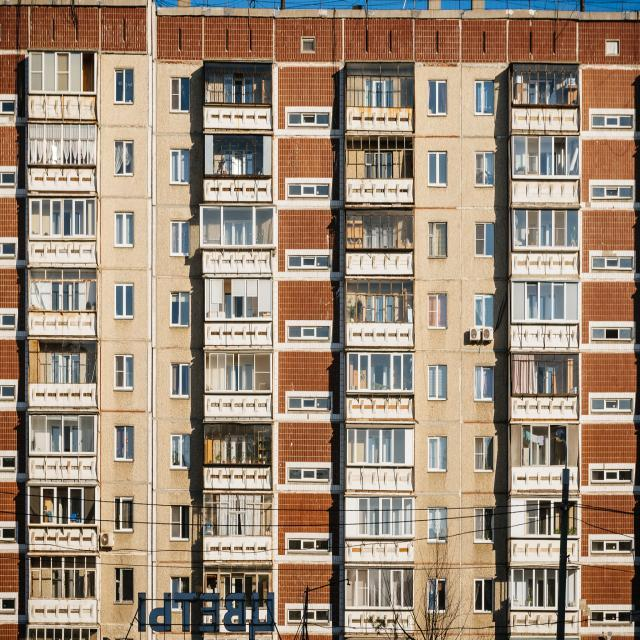Window: (29, 125, 94, 166), (348, 211, 410, 249), (346, 573, 408, 608), (208, 280, 270, 314), (32, 559, 92, 594), (516, 138, 576, 172), (515, 214, 575, 247), (516, 568, 572, 602), (31, 54, 80, 90), (520, 426, 564, 464), (42, 491, 84, 522), (208, 496, 267, 518), (348, 498, 406, 519), (212, 574, 260, 596), (528, 500, 572, 522), (50, 280, 78, 312), (50, 209, 80, 236), (426, 221, 448, 256), (224, 218, 252, 245), (222, 367, 254, 390), (53, 356, 80, 383), (365, 152, 392, 178), (366, 294, 394, 319), (51, 427, 78, 451), (286, 540, 332, 554), (286, 116, 331, 130), (287, 326, 329, 341), (476, 438, 493, 474), (594, 470, 632, 486), (427, 296, 446, 327), (226, 439, 254, 460), (114, 142, 132, 174), (115, 288, 133, 320), (289, 609, 330, 623), (172, 151, 189, 184), (429, 154, 446, 187), (476, 225, 493, 258), (530, 298, 558, 318), (288, 254, 328, 268), (368, 364, 391, 388), (366, 439, 390, 462), (116, 214, 132, 248), (476, 154, 494, 184), (172, 223, 188, 256), (430, 439, 446, 472), (366, 82, 390, 104), (428, 368, 446, 397), (288, 184, 328, 197), (591, 610, 631, 623), (171, 367, 190, 394), (115, 358, 131, 390), (172, 508, 188, 540), (476, 366, 492, 398), (474, 580, 491, 610), (534, 370, 555, 394), (288, 468, 330, 480), (476, 296, 492, 327), (114, 573, 130, 604), (115, 72, 131, 102), (116, 429, 132, 459), (476, 82, 492, 112), (429, 579, 444, 610), (531, 85, 553, 106), (592, 116, 634, 127), (226, 81, 250, 100), (288, 398, 329, 409), (172, 295, 186, 327), (172, 438, 188, 466), (430, 82, 444, 114), (172, 80, 186, 109), (224, 154, 249, 170), (594, 257, 634, 267), (592, 544, 632, 554), (116, 498, 132, 522), (30, 630, 93, 636), (590, 330, 634, 338), (593, 401, 628, 411), (592, 188, 630, 196), (172, 578, 190, 593), (429, 508, 446, 522), (476, 509, 494, 522), (2, 600, 16, 616), (2, 244, 16, 258), (2, 171, 15, 186), (2, 315, 15, 329), (2, 459, 16, 472), (1, 528, 16, 540), (2, 102, 15, 114), (1, 386, 12, 400), (606, 42, 618, 53), (303, 41, 314, 50)
